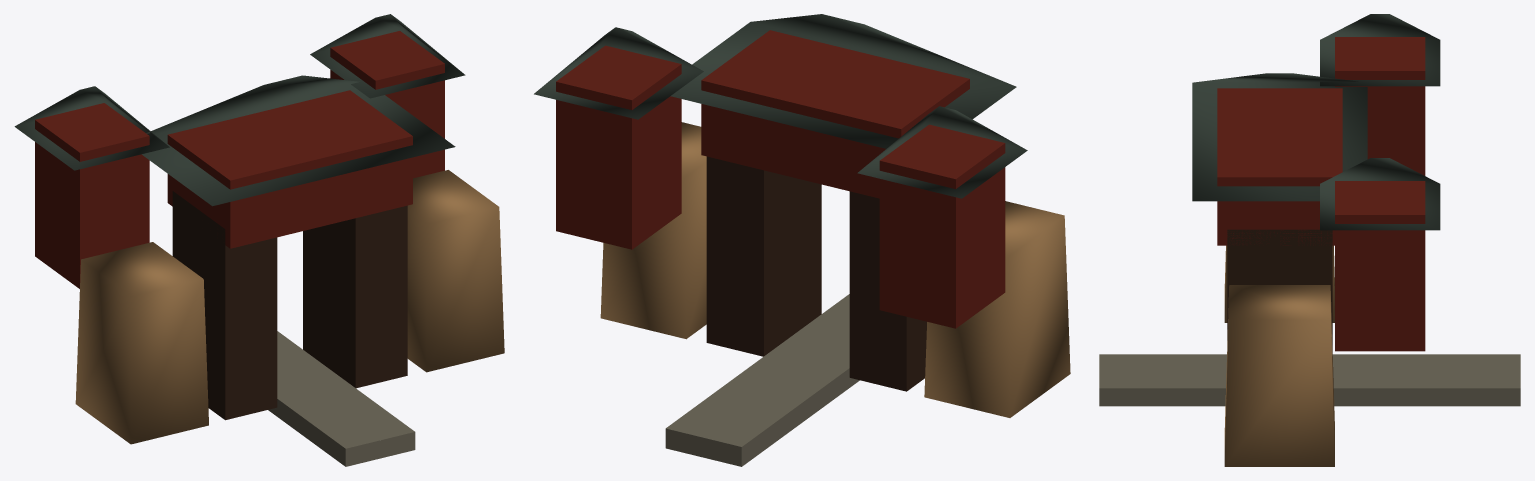
File: R18_HAN_LUOYANG_GATE_XIAMEN_A.fbx
The picture shows the model from 3 angles, left to right: view 1: azimuth 30°, elevation 25°; view 2: azimuth 150°, elevation 25°; view 3: azimuth 270°, elevation 25°; orthographic projection. The views are drawn at different scales.
Visible parts, largest first — view 1: house, wall_e, wall_w, pier_w, tower_e, pier_e, roof, road, tower_w, tower_roof_e, tower_roof_w; view 2: house, tower_e, tower_w, pier_w, wall_e, road, wall_w, roof, pier_e, tower_roof_e, tower_roof_w; view 3: wall_w, road, house, tower_w, tower_e, roof, pier_w, tower_roof_w, tower_roof_e, wall_e.
Boxes of the visible parts, x1,y1,x2,y2 form: house: [167, 90, 412, 248]; wall_e: [75, 242, 208, 444]; wall_w: [407, 170, 504, 372]; pier_w: [303, 205, 407, 388]; tower_e: [35, 103, 149, 288]; pier_e: [172, 191, 277, 420]; roof: [142, 75, 455, 206]; road: [268, 331, 415, 466]; tower_w: [330, 31, 444, 178]; tower_roof_e: [14, 86, 169, 170]; tower_roof_w: [310, 14, 465, 98]; house: [701, 30, 969, 198]; tower_e: [879, 124, 1005, 328]; tower_w: [556, 45, 681, 249]; pier_w: [706, 156, 821, 356]; wall_e: [924, 201, 1070, 417]; road: [665, 294, 859, 466]; wall_w: [600, 122, 706, 339]; roof: [670, 14, 1016, 148]; pier_e: [849, 191, 926, 391]; tower_roof_e: [857, 106, 1027, 198]; tower_roof_w: [534, 27, 703, 119]; wall_w: [1224, 285, 1334, 466]; road: [1099, 354, 1520, 406]; house: [1217, 88, 1342, 245]; tower_w: [1335, 181, 1425, 351]; tower_e: [1335, 37, 1425, 175]; roof: [1192, 73, 1367, 201]; pier_w: [1227, 229, 1332, 344]; tower_roof_w: [1320, 158, 1440, 230]; tower_roof_e: [1320, 14, 1440, 86]; wall_e: [1224, 245, 1334, 322].
Size of the model in its own units: 90 by 67.5 by 84.
